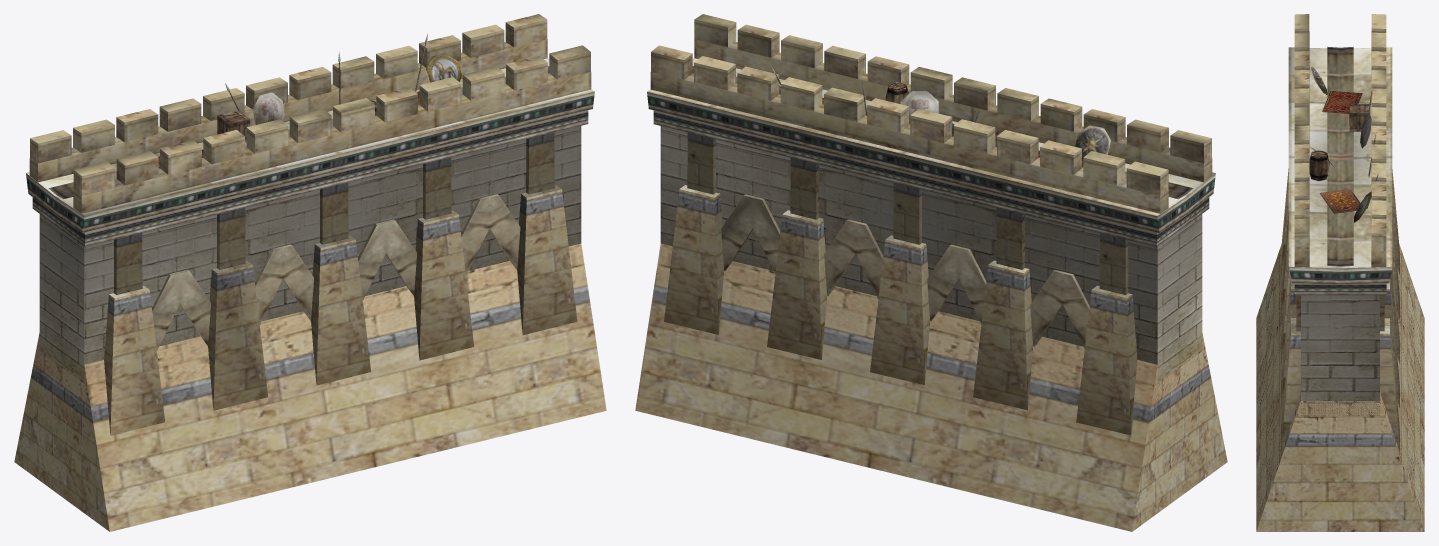
File: s_carthaginians_wall_long.glb
3 renders of one model, left to right at view 1: azimuth 30°, elevation 25°; view 2: azimuth 150°, elevation 25°; view 3: azimuth 270°, elevation 25°, orthographic. The views are drawn at different scales.
Parts seen in each view (by area): view 1: s_carthaginians_wall_long_part0; view 2: s_carthaginians_wall_long_part0; view 3: s_carthaginians_wall_long_part0.
Boxes of the visible parts, left/top/right/bottom form: s_carthaginians_wall_long_part0: left=14, top=14, right=606, bottom=531; s_carthaginians_wall_long_part0: left=635, top=14, right=1227, bottom=531; s_carthaginians_wall_long_part0: left=1256, top=14, right=1424, bottom=531.
Size of the model in its own units: 9.31 by 6.24 by 3.02.
Materials: 1 (1 with a texture image).
